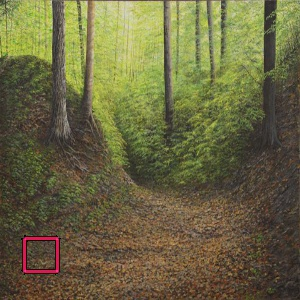square: (21, 235, 61, 275)
